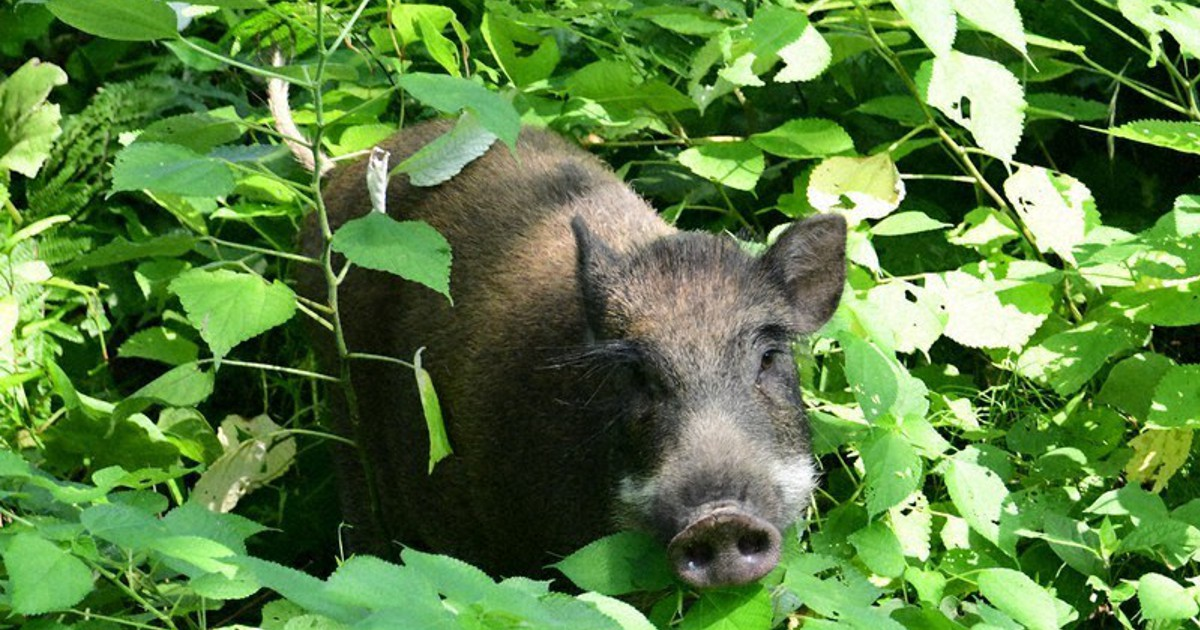boar: (291, 101, 860, 606)
